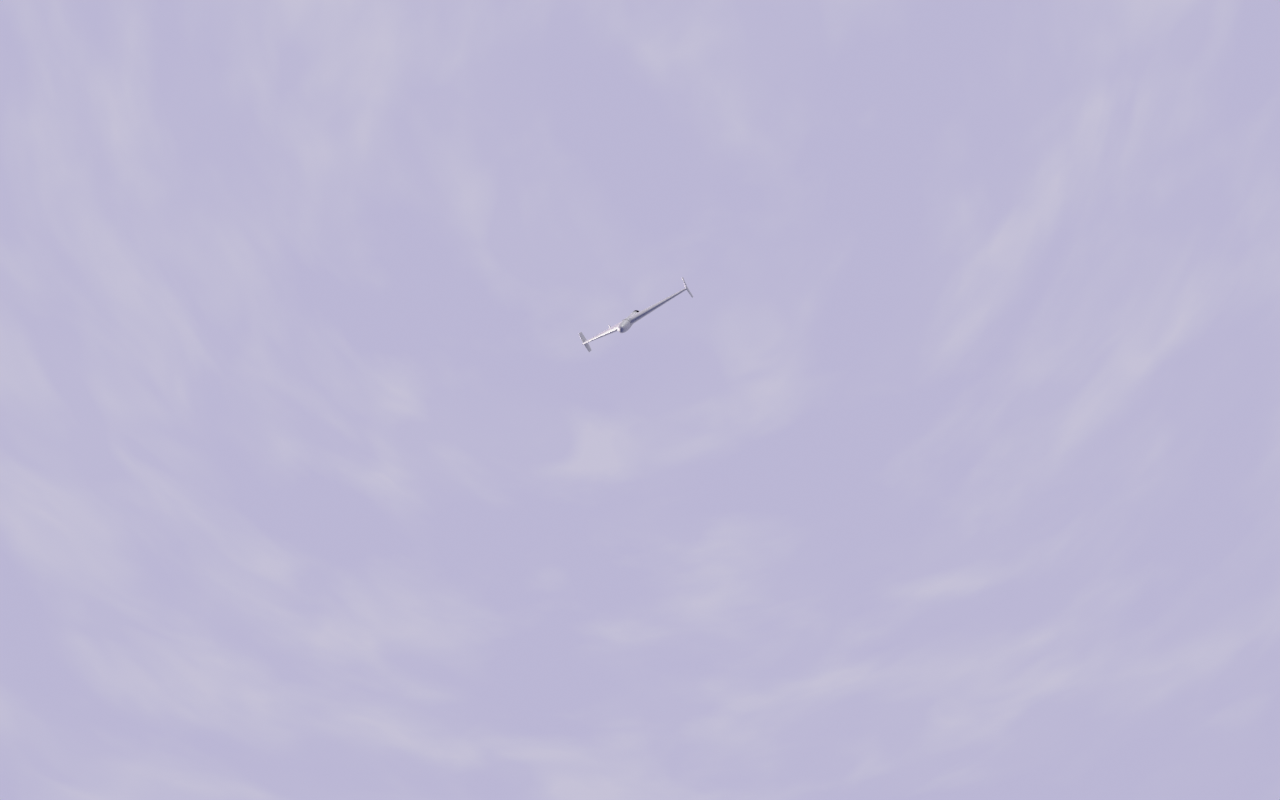shahed: (579, 277, 695, 354)
